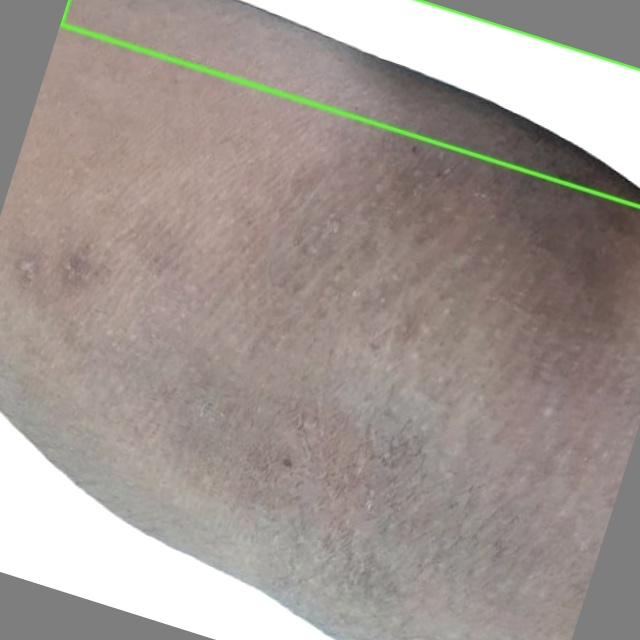Contact Dermatitis: (61, 0, 639, 206)
